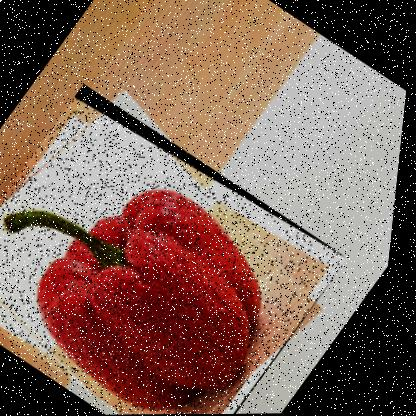capsicum_rotten: (0, 81, 368, 415)
